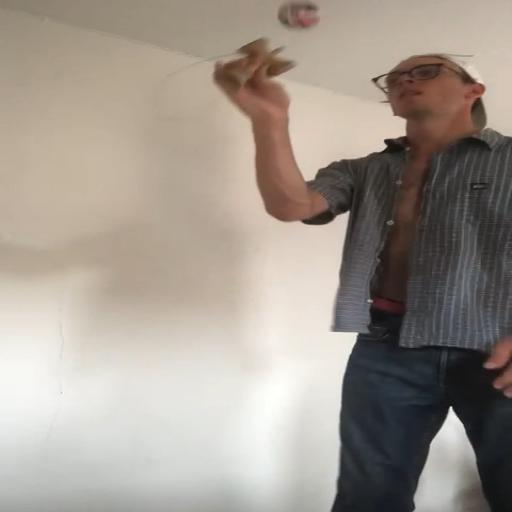kendama_ball: (277, 0, 320, 30)
